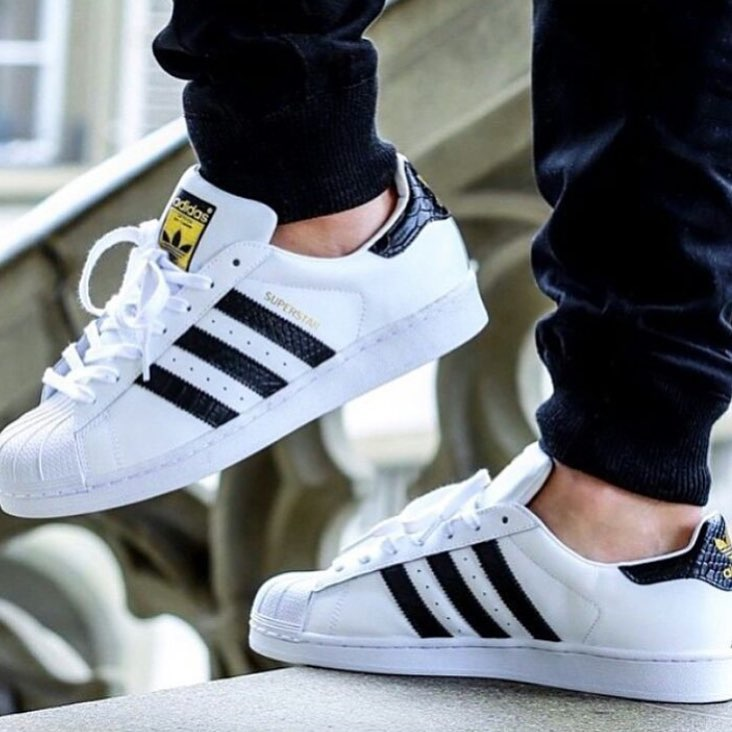sneaker: (1, 126, 508, 539), (221, 433, 732, 722)
